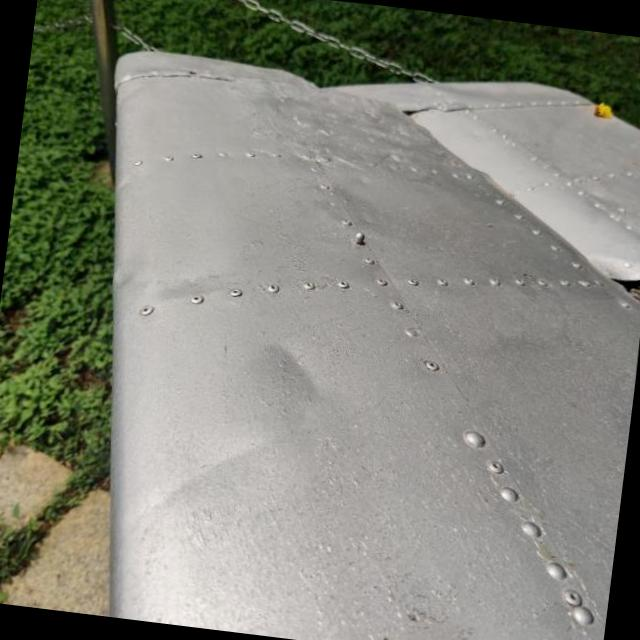dent: (138, 418, 278, 532), (252, 326, 334, 412)
